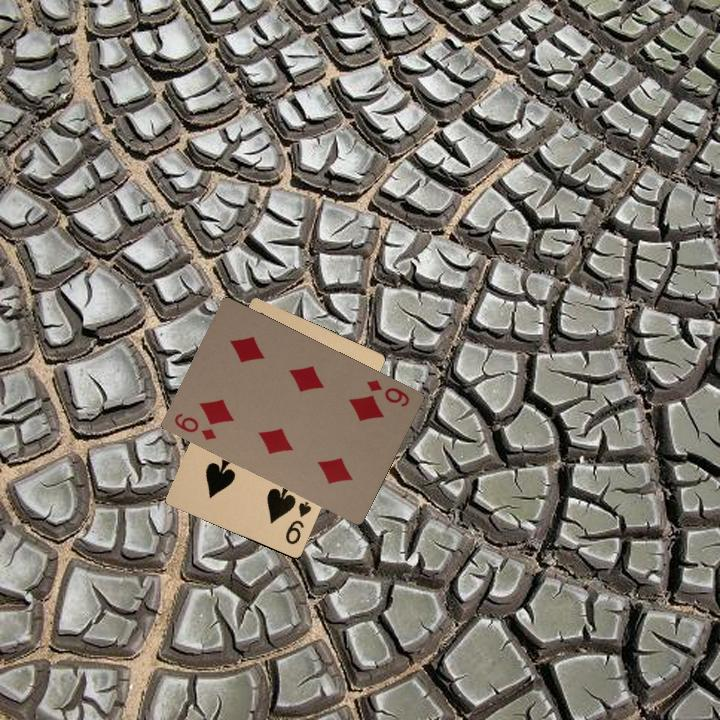6d: (363, 375, 412, 410), (170, 409, 219, 443)
9s: (281, 497, 314, 547)
